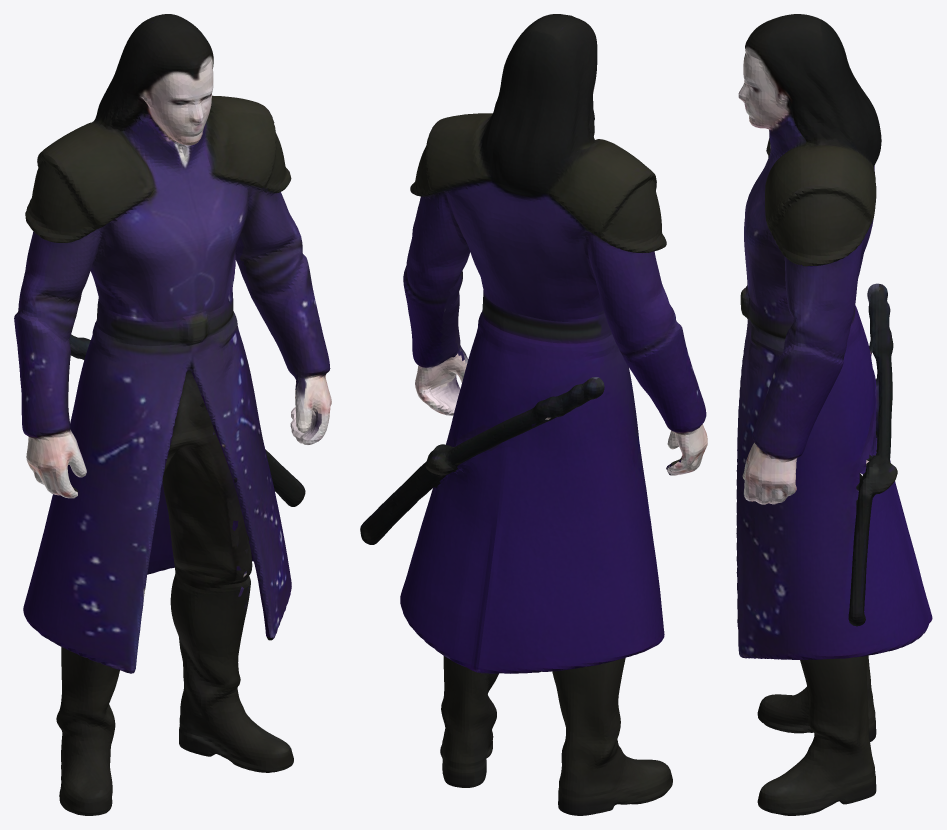
File: veyr.glb
3 renders of one model, left to right at view 1: azimuth 30°, elevation 25°; view 2: azimuth 150°, elevation 25°; view 3: azimuth 270°, elevation 25°, orthographic. The views are drawn at different scales.
Parts seen in each view (by area): view 1: tmpdt9gc5yn.ply; view 2: tmpdt9gc5yn.ply; view 3: tmpdt9gc5yn.ply.
Boxes of the visible parts, box(x1,y1,x2,y2) form: tmpdt9gc5yn.ply: box(14, 14, 331, 815); tmpdt9gc5yn.ply: box(360, 14, 707, 815); tmpdt9gc5yn.ply: box(736, 14, 932, 815).
Size of the model in its own units: 0.8521 by 1.99 by 0.4739.
Materials: 1 (1 with a texture image).
